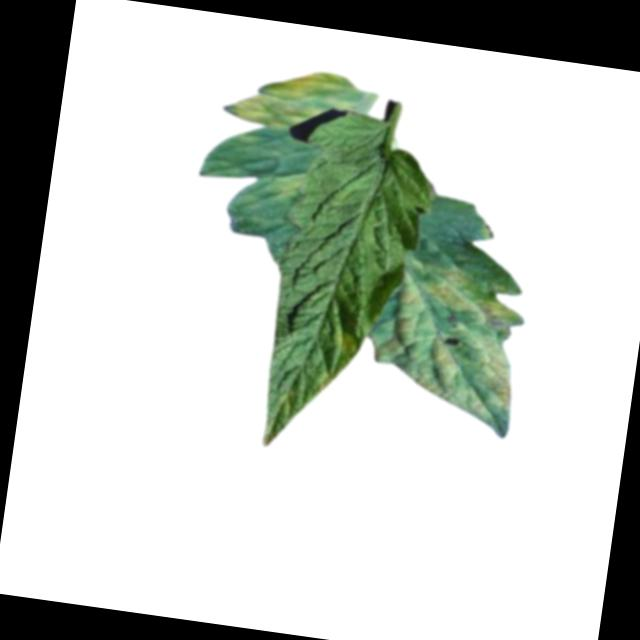Leaf_Mold: (365, 250, 534, 424), (224, 57, 359, 141), (272, 169, 310, 202), (327, 329, 362, 360)
